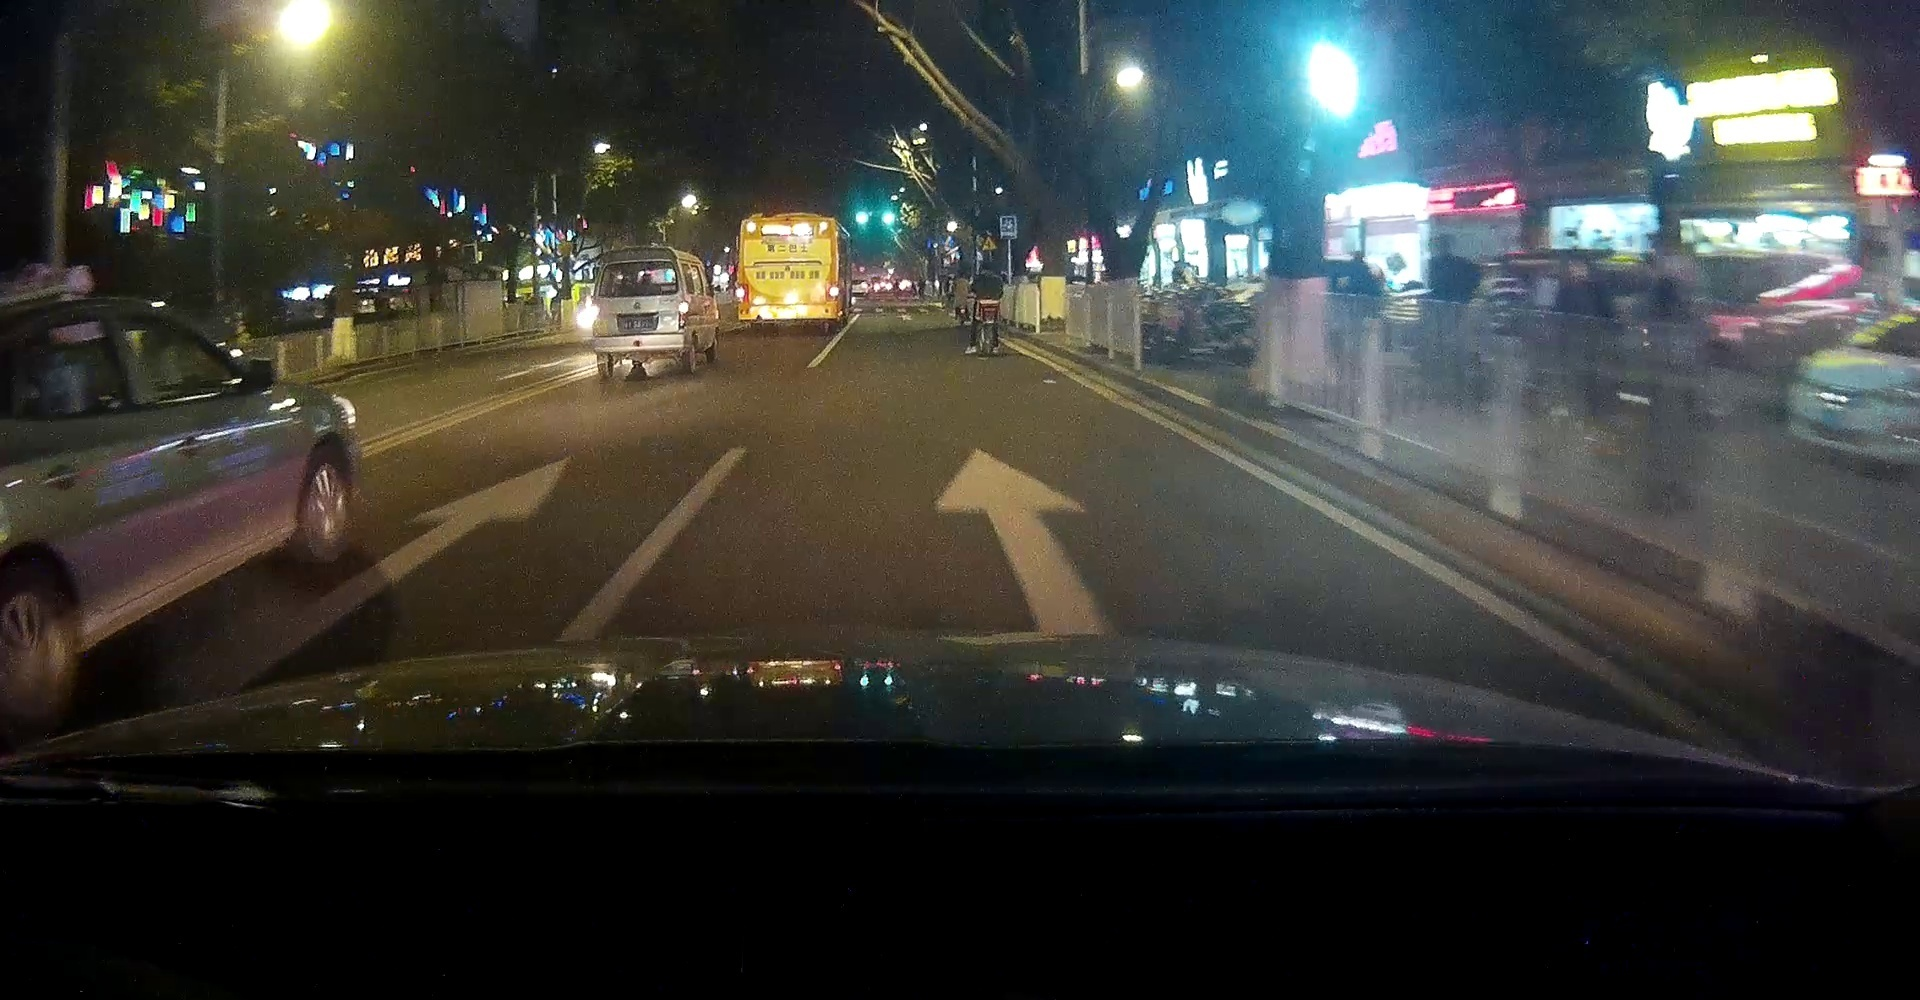L_light: (590, 306, 601, 331), (738, 283, 749, 305)
R_light: (827, 280, 839, 302), (679, 301, 688, 327)
T_light: (778, 220, 796, 225), (629, 261, 645, 266)
night-no: (590, 246, 688, 378), (738, 213, 841, 332)
